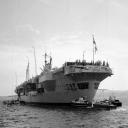Portanaves: (15, 34, 115, 109)
